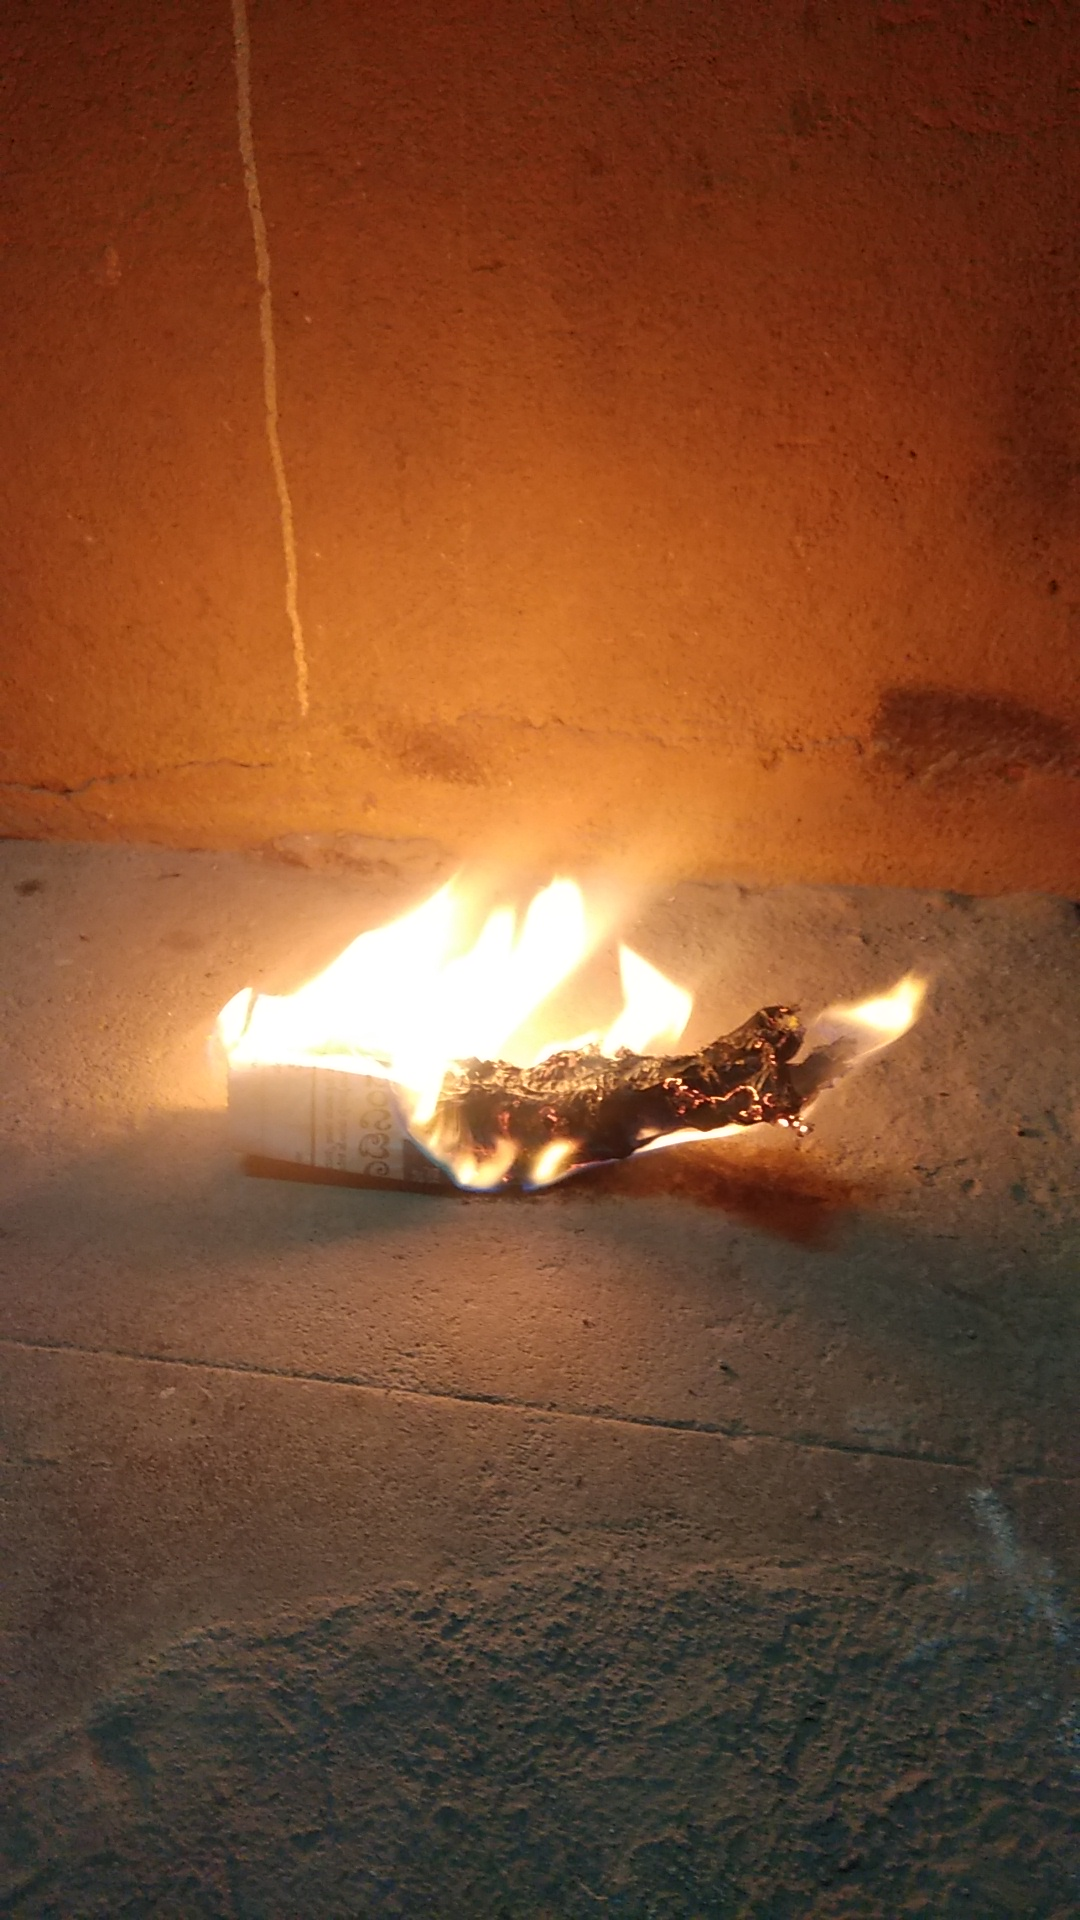Fire: (214, 868, 928, 1188)
